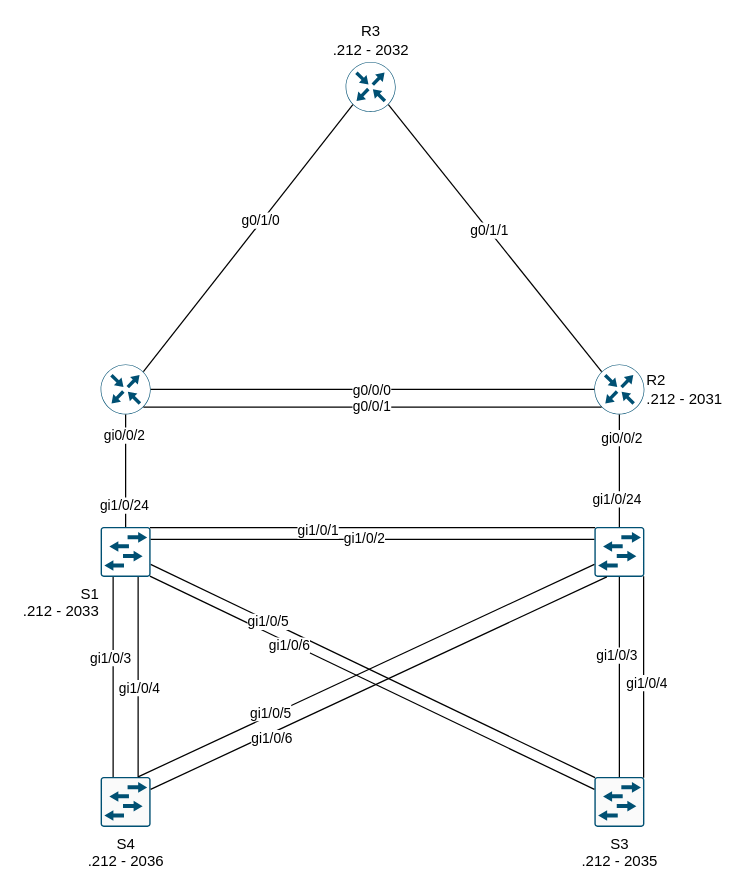
Image size: 744x893. Some labels were removed from this diagram. Each missing label, with the centre of its shape:
R1 .212 - 2030: (125,388)
S2 .212 - 2034: (618,551)
